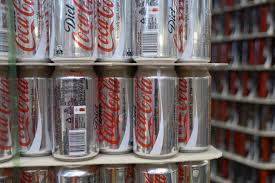can: (50, 68, 99, 167), (173, 74, 218, 166), (14, 73, 53, 165), (137, 71, 172, 159), (100, 71, 137, 154)
